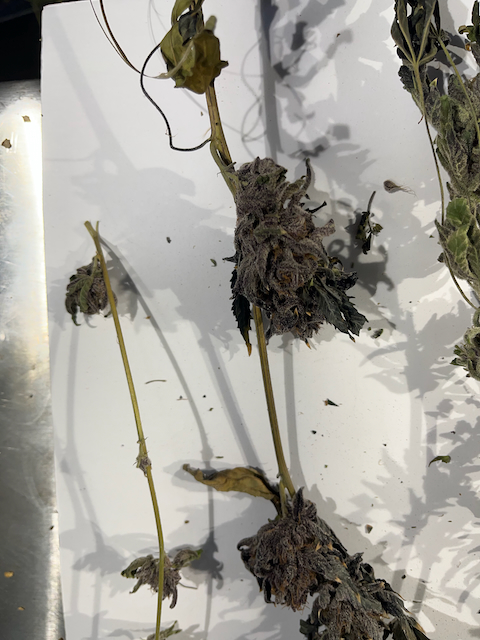Bud: (231, 174, 320, 316), (253, 514, 316, 606), (66, 266, 113, 318), (324, 591, 374, 637)
Leaf: (192, 456, 278, 507), (439, 227, 476, 299), (413, 1, 447, 53), (436, 198, 471, 236), (387, 0, 412, 53), (158, 28, 185, 75), (130, 576, 144, 600), (170, 586, 178, 611)
Leaf-Attachment: (396, 40, 433, 81)
Stem: (247, 320, 305, 507), (109, 300, 155, 464), (416, 86, 452, 235), (138, 42, 180, 157), (202, 87, 236, 181), (147, 464, 162, 634), (83, 224, 113, 270), (161, 132, 209, 154)
